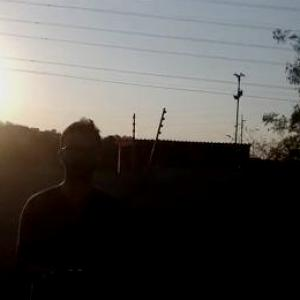follow: (8, 111, 129, 299)
